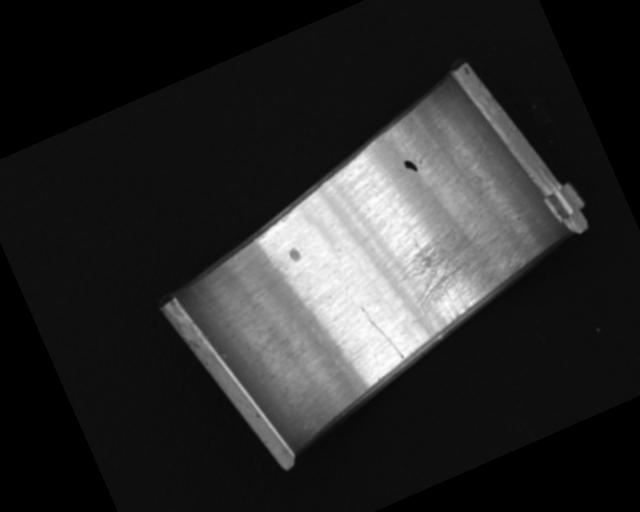blot: (403, 157, 419, 176)
bruise: (286, 246, 302, 263)
nick: (191, 267, 271, 370), (359, 298, 405, 367)
scratch: (387, 204, 538, 342)
